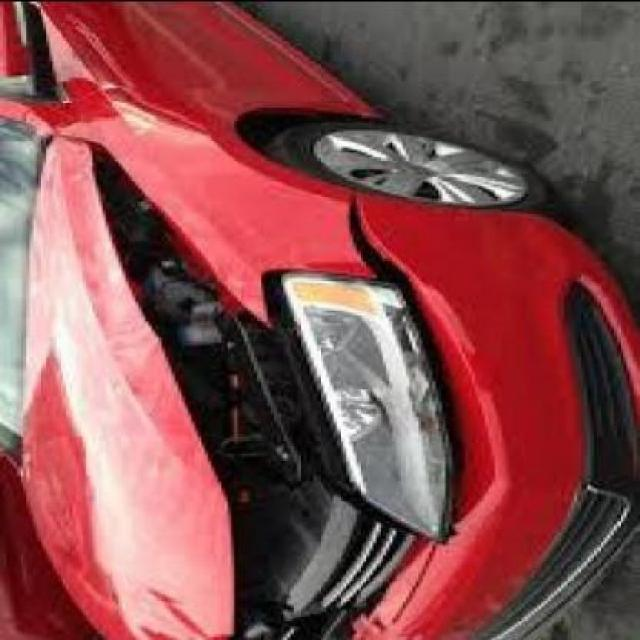damage: (81, 142, 423, 636), (344, 190, 490, 548)
